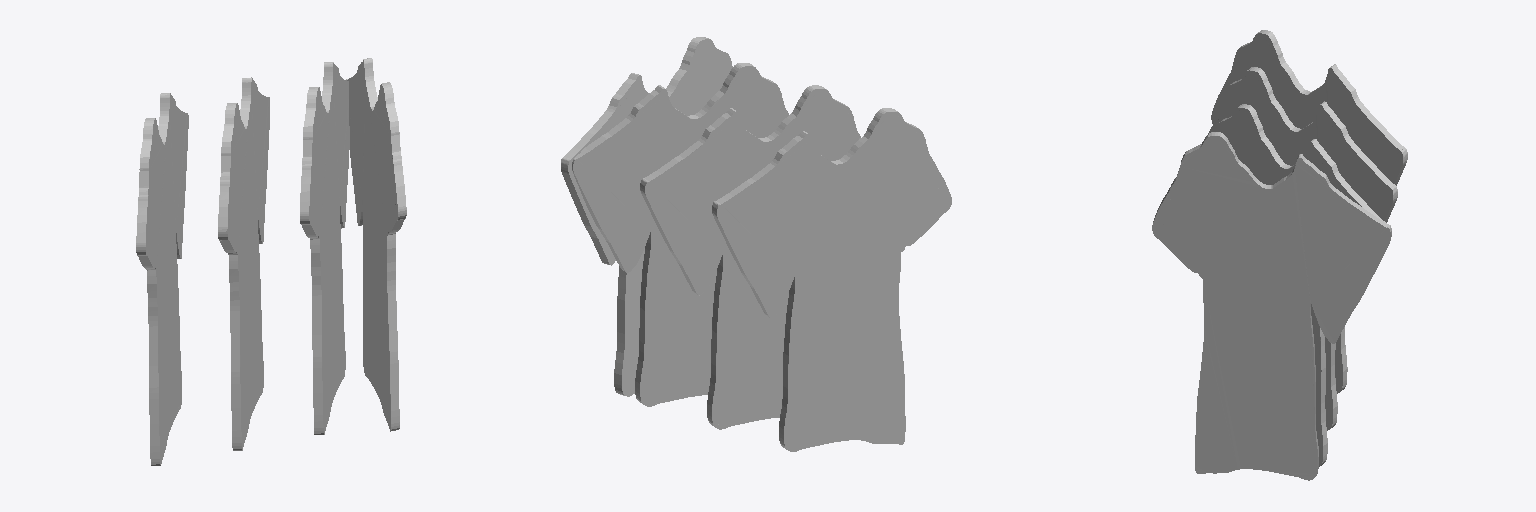
The model's file is shirts.obj.
3 renders of one model, left to right at view 1: azimuth 30°, elevation 25°; view 2: azimuth 150°, elevation 25°; view 3: azimuth 270°, elevation 25°, orthographic.
Visible parts, largest first — view 1: obj_0; view 2: obj_0; view 3: obj_0.
Boxes of the visible parts, x1=… form: obj_0: x1=136, y1=58, x2=406, y2=465; obj_0: x1=561, y1=37, x2=951, y2=451; obj_0: x1=1152, y1=30, x2=1407, y2=480.
Bounding box in the file's own units: 35.59 × 38.15 × 25.93.